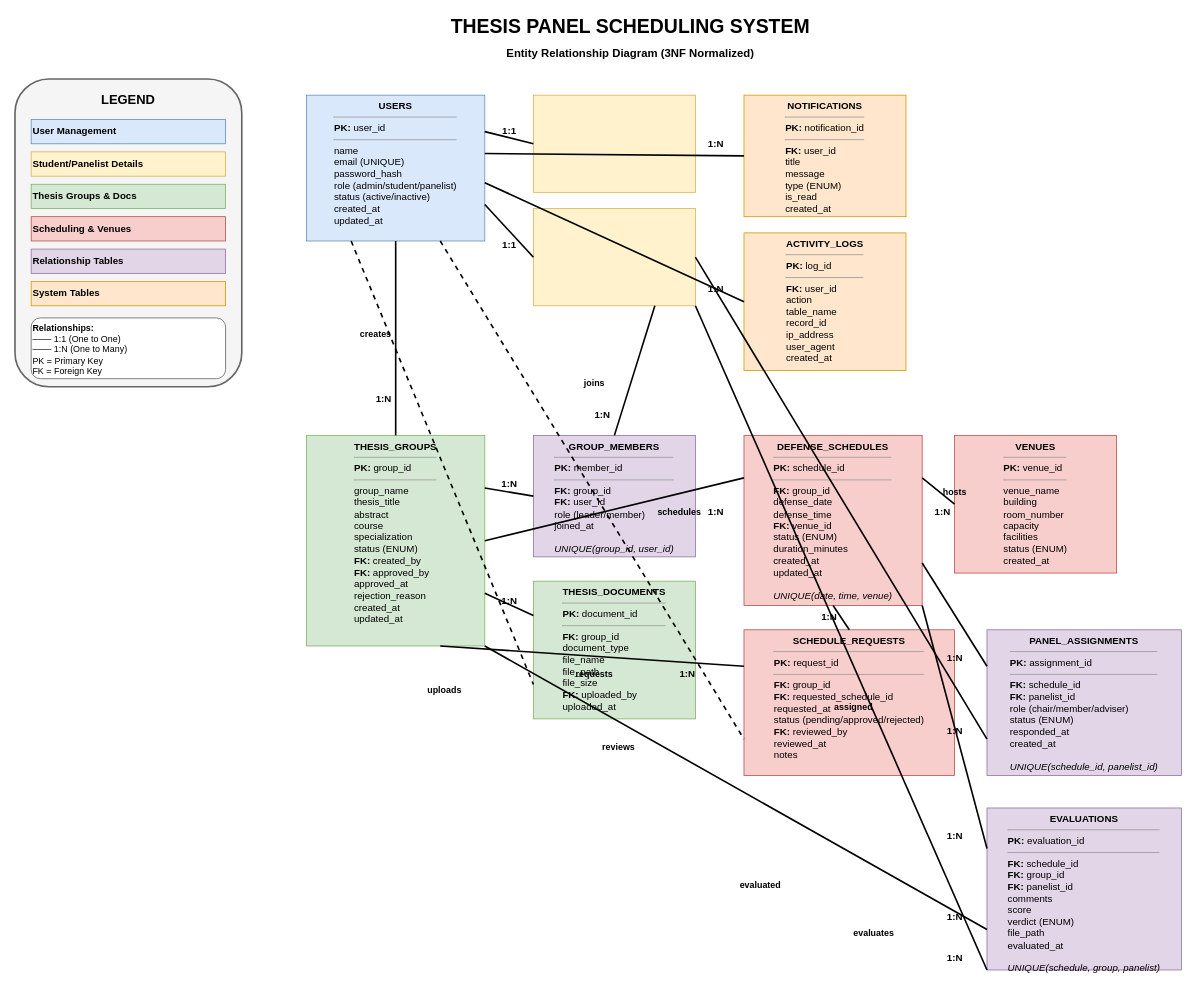
Some shapes in this 1196 by 988 pixel diagram are drawn without their labels. The shapes that lost their labels are listed below. From the top down, each one's centre as x and y in pixels, then its label:
the point at 614,143: STUDENT_DETAILS PK,FK: user_id course year student_id
the point at 614,257: PANELIST_DETAILS PK,FK: user_id specialization title bio
